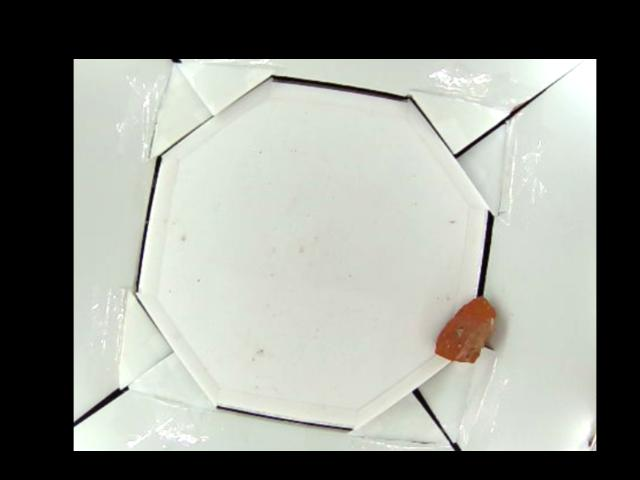Brisk: (434, 295, 491, 361)
